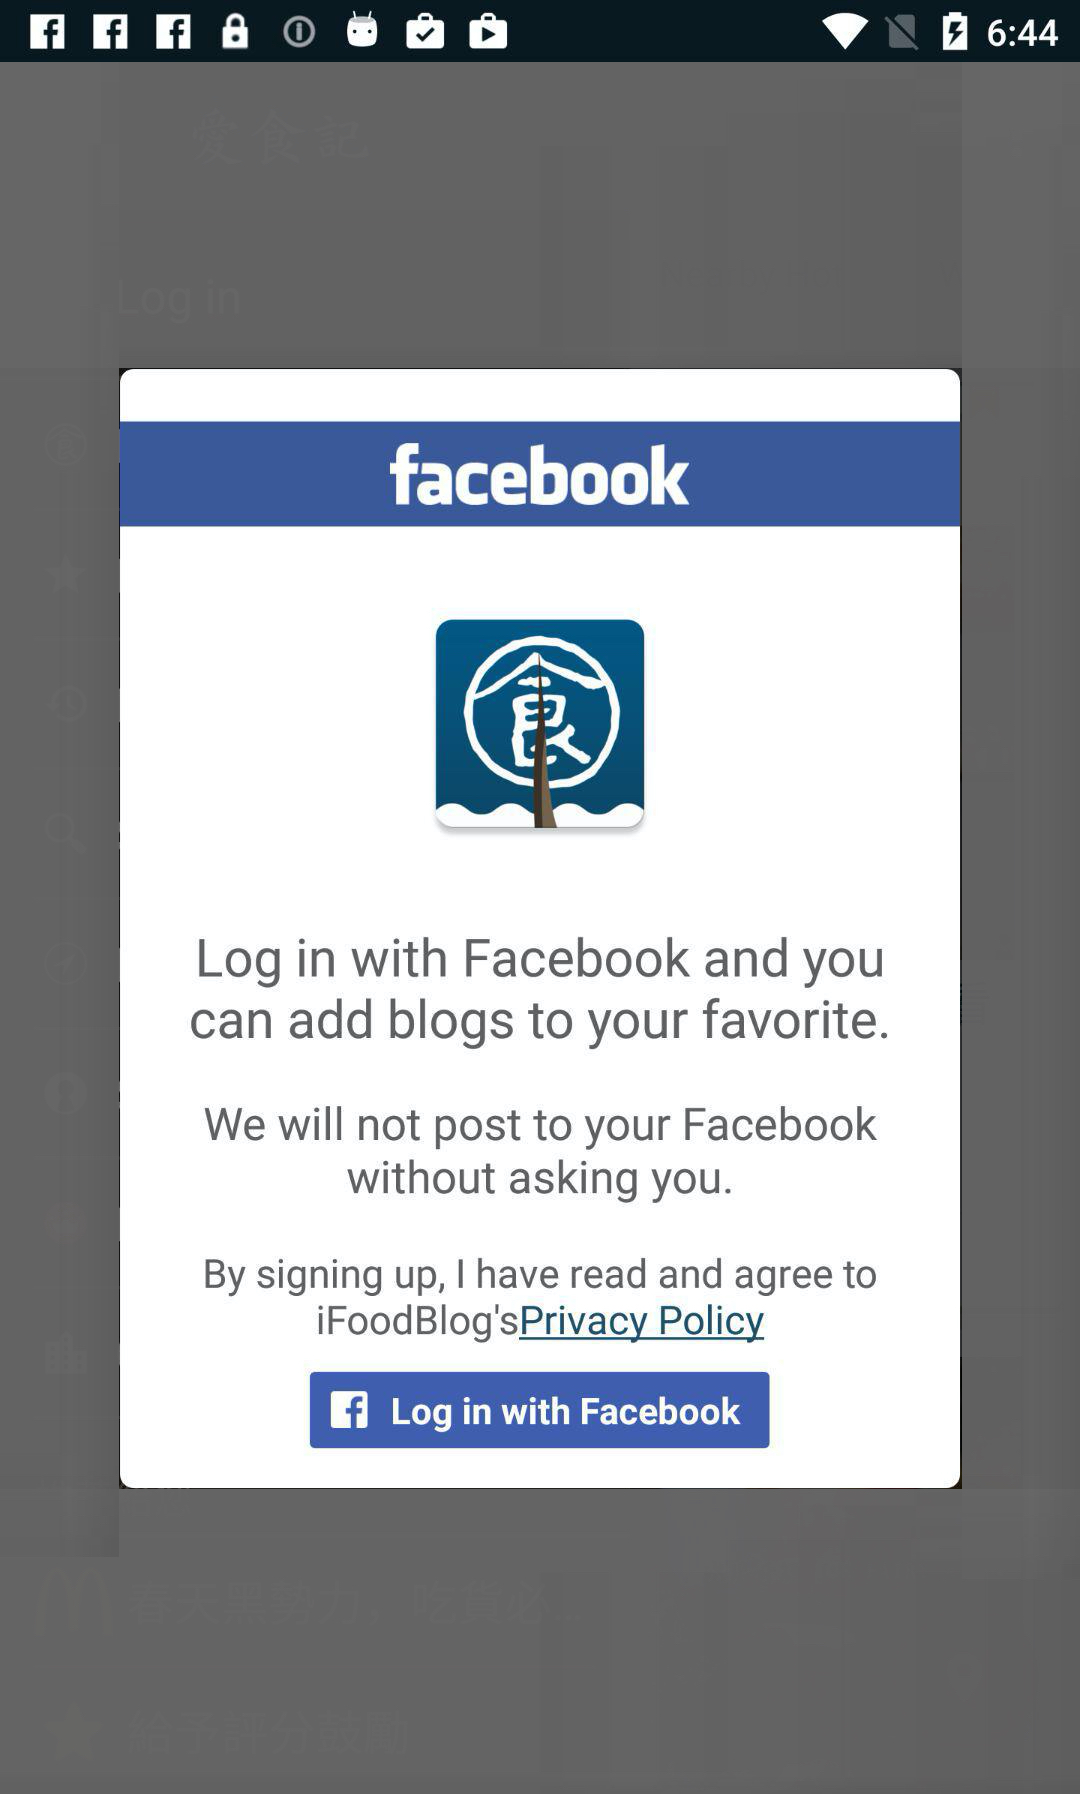Image: (436, 619, 646, 829)
Modal: (120, 369, 961, 1489)
Text: (191, 935, 888, 1051), (204, 1105, 878, 1205), (205, 1257, 878, 1344)
TextButton: (120, 422, 961, 528), (309, 1371, 771, 1449)
UpperTaskBar: (1, 1, 1080, 64)
